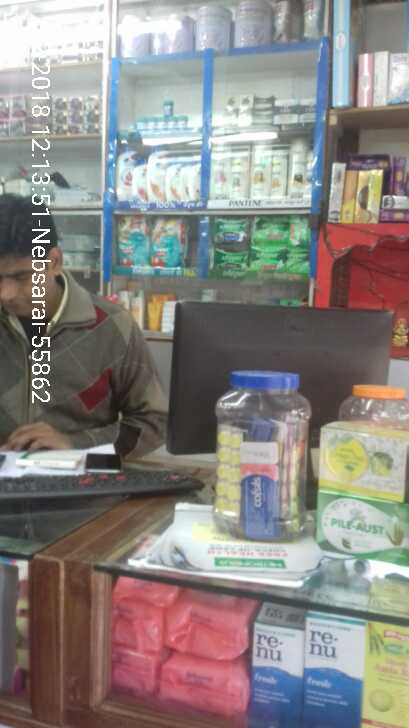vicks: (130, 97, 190, 137)
